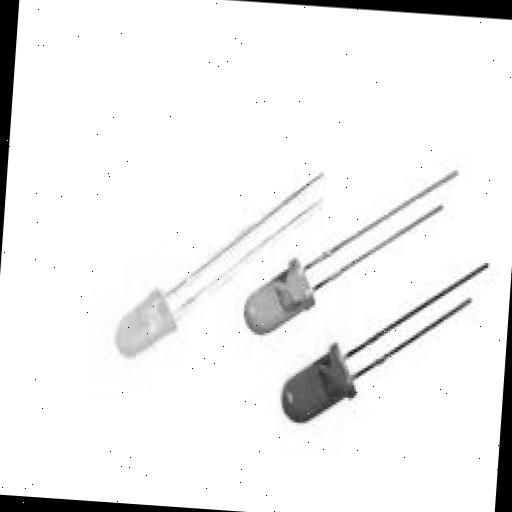LED: (278, 254, 496, 478), (82, 112, 246, 376), (232, 209, 334, 366)
